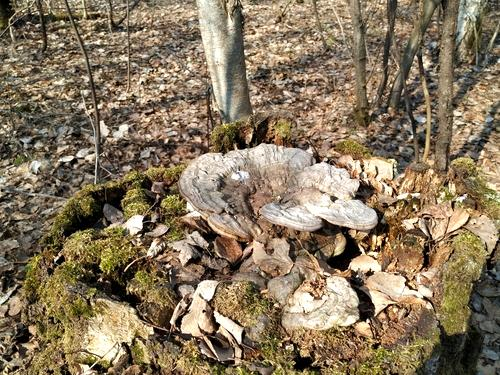Ganoderma - Fruit Body: (179, 144, 377, 236), (271, 272, 360, 330)
